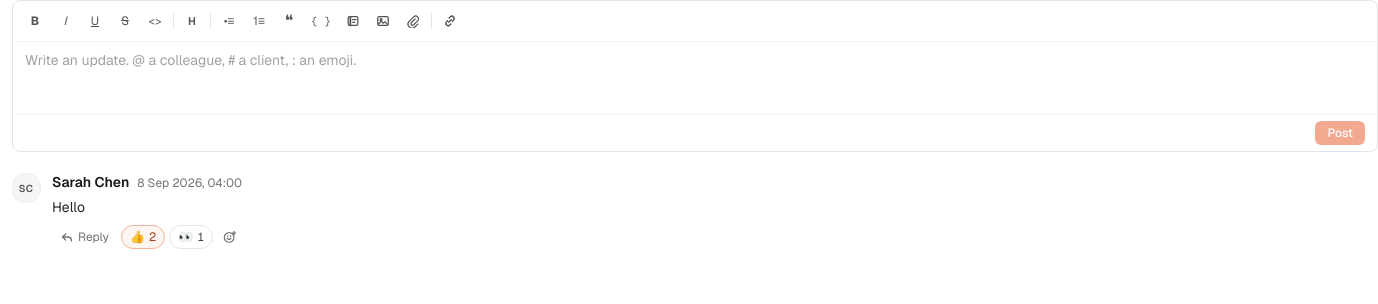
Scenario: reactions on a post › a refused reaction is put back, with the reason
The image size is (1378, 304).
Click the button named "Looking at this: 1" at (191, 237), box [169,225,213,249]
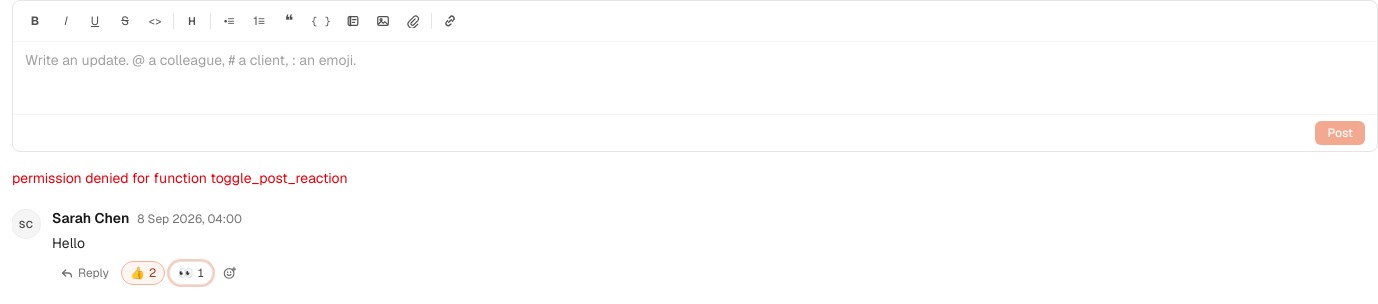
Result: the message shows "permission denied" at [12,169,348,187]
